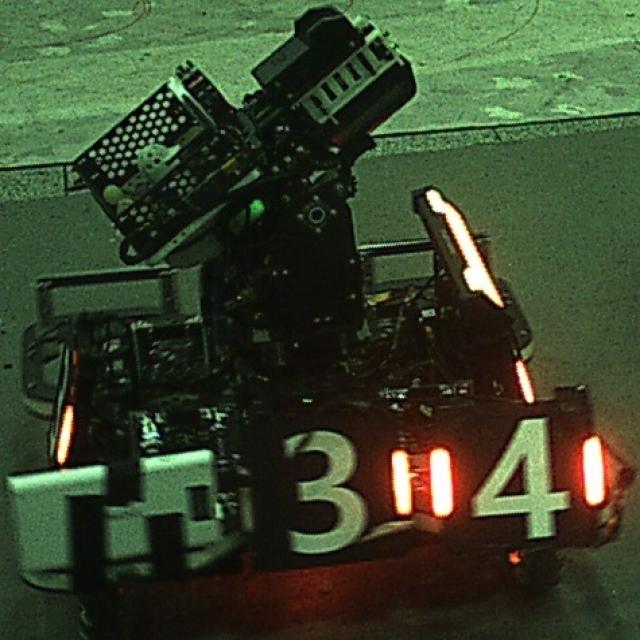R4: (430, 417, 604, 535)
